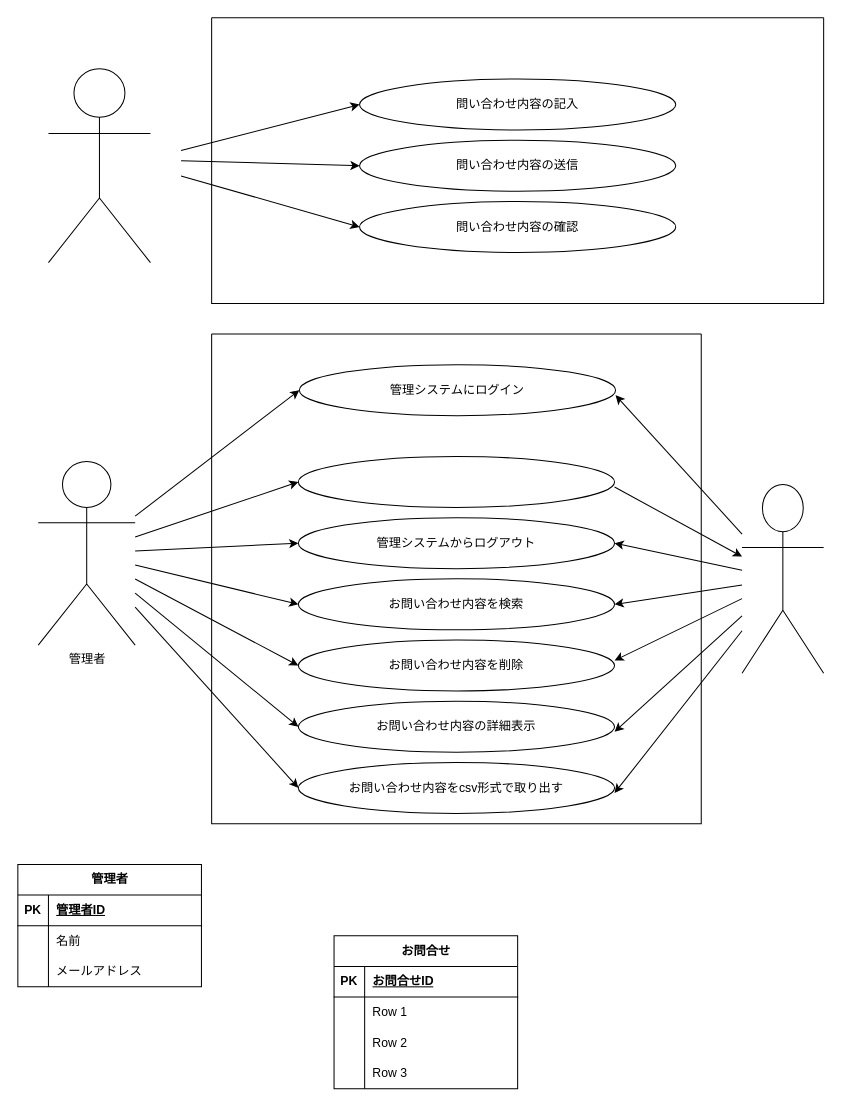
The diagram is 842 pixels wide and 1107 high, and some of its shapes have lost their labels. The shapes that lost their labels are listed below. From the top down, each one's box as (x1, y1, x2, y2) in pixels, then its label:
(47, 68, 150, 263): 利用者
(211, 17, 824, 303): 問い合わせ送信システム
(297, 455, 615, 507): 新規ユーザーの作成・登録
(211, 333, 701, 824): 問い合わせ管理システム
(741, 483, 824, 673): 新規管理者
